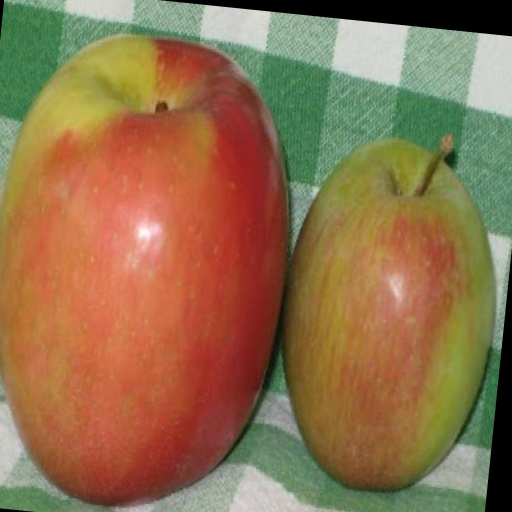fruit: (0, 36, 287, 503), (284, 137, 495, 490)
